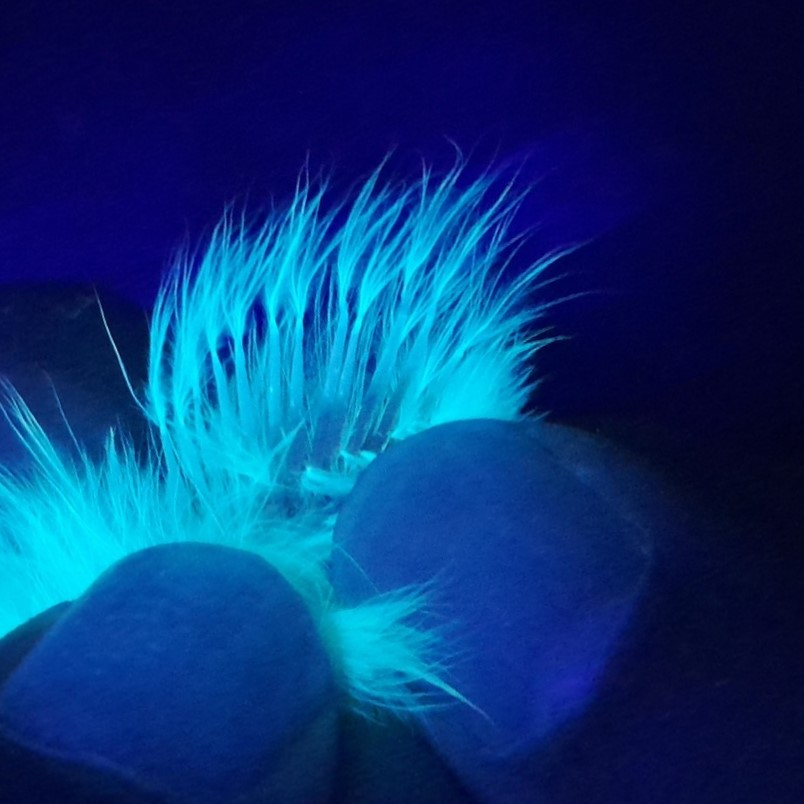male: (157, 267, 468, 547)
